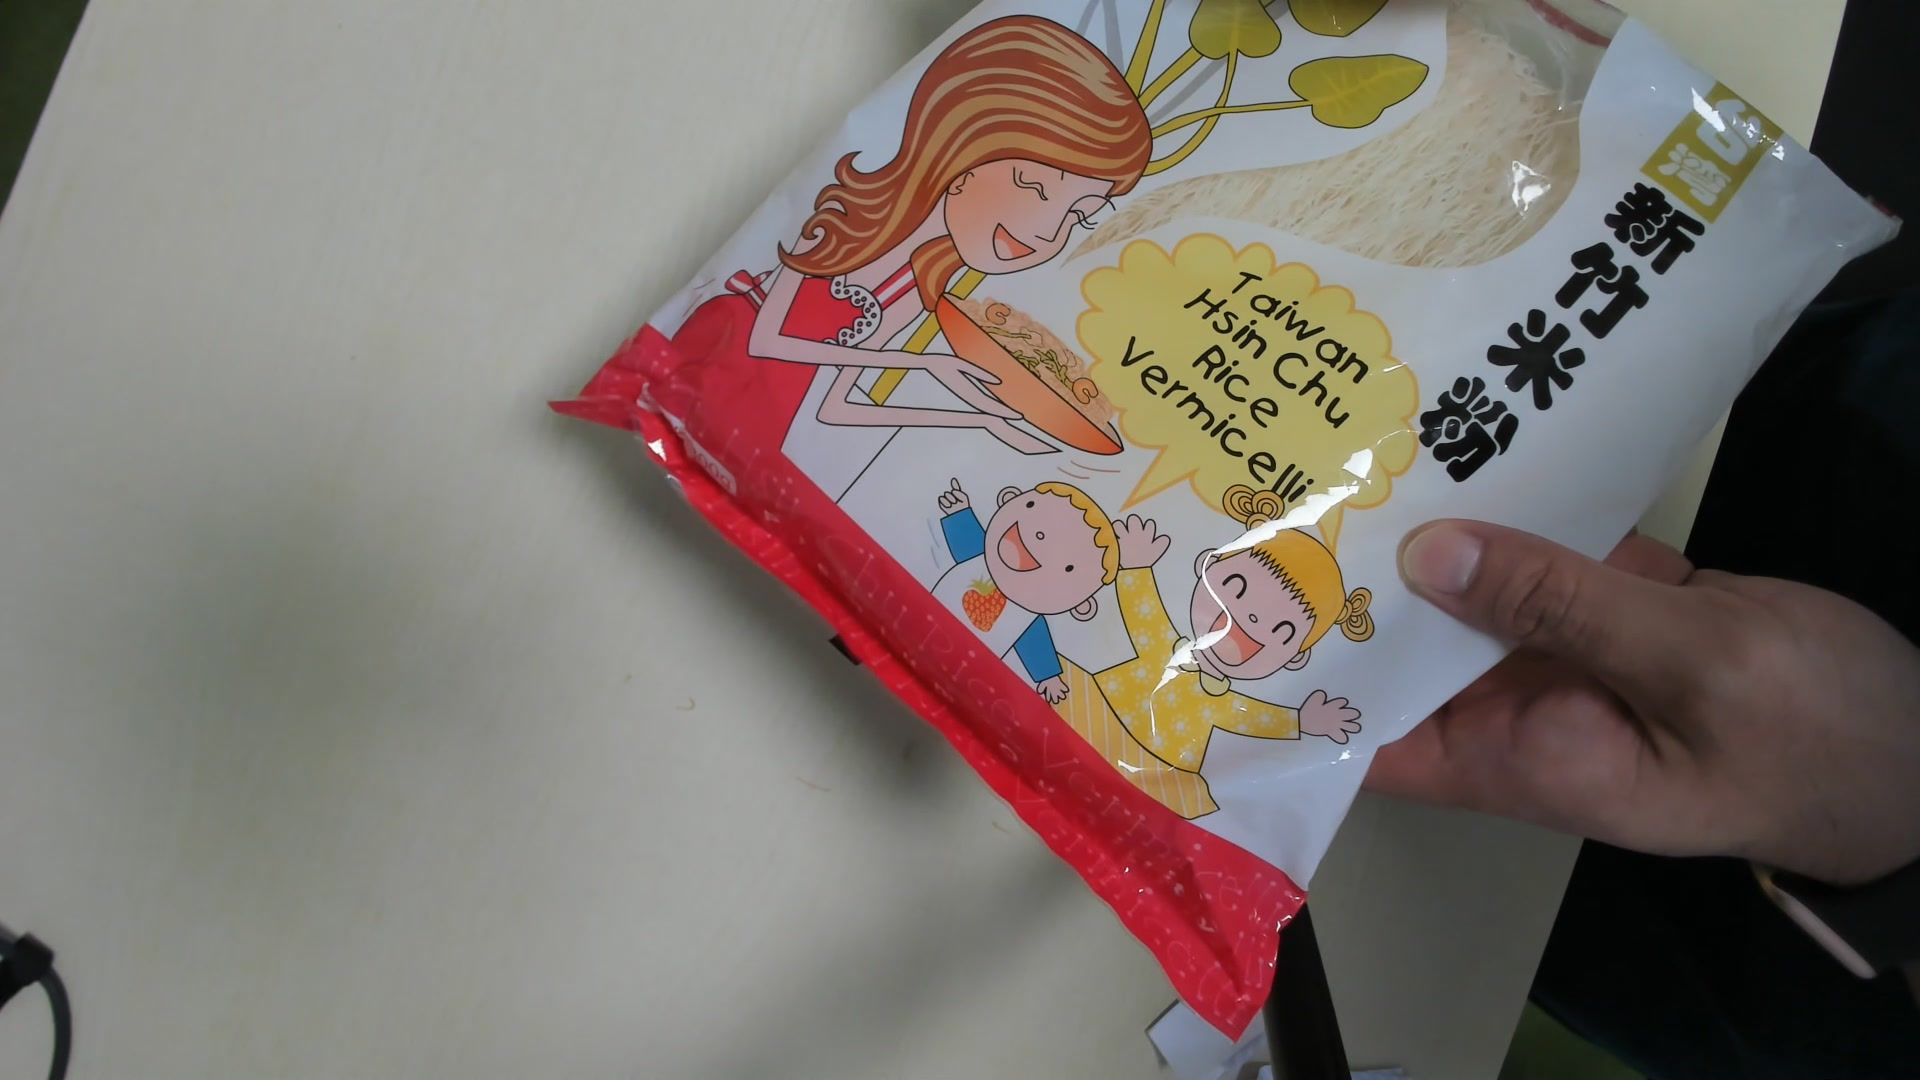BeeHoonVermicelli_0-99g_NonHalal_NonHealthy: (579, 3, 1913, 1009)
